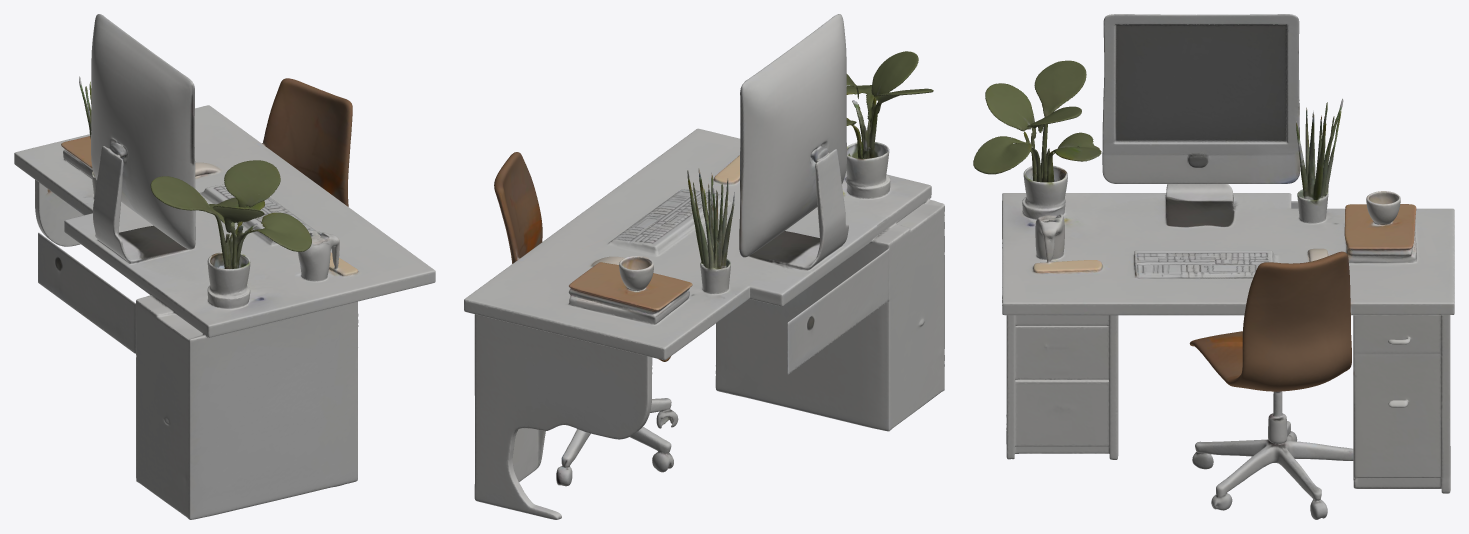
Rendered from office-environment.glb.
3 views of the same model, side by side, from view 1: azimuth 30°, elevation 25°; view 2: azimuth 150°, elevation 25°; view 3: azimuth 270°, elevation 25° (orthographic). The views are drawn at different scales.
Parts seen in each view (by area): view 1: tripo_node_b8c195cf-d676-4404-98e6-bc60f05330e5; view 2: tripo_node_b8c195cf-d676-4404-98e6-bc60f05330e5; view 3: tripo_node_b8c195cf-d676-4404-98e6-bc60f05330e5.
Part boxes in pixels (<box>): tripo_node_b8c195cf-d676-4404-98e6-bc60f05330e5: <box>14,14,435,519</box>; tripo_node_b8c195cf-d676-4404-98e6-bc60f05330e5: <box>464,14,944,519</box>; tripo_node_b8c195cf-d676-4404-98e6-bc60f05330e5: <box>973,14,1454,519</box>.
Size of the model in its own units: 0.7204 by 0.9077 by 1.
1 material, 1 textured.
